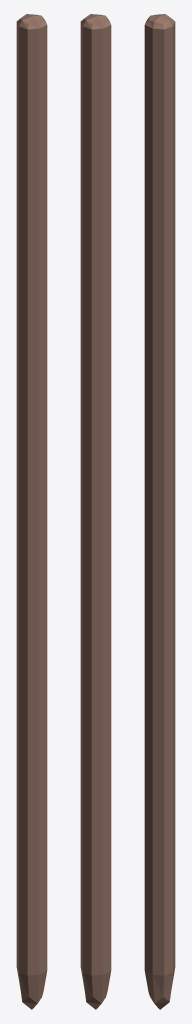
The model's file is high-platform2.dae.
The picture shows the model from 3 angles, left to right: view 1: azimuth 30°, elevation 25°; view 2: azimuth 210°, elevation 25°; view 3: azimuth 330°, elevation 25°; orthographic projection.
Visible parts, largest first — view 1: Cube; view 2: Cube; view 3: Cube.
Part boxes in pixels (bbox=[...]): Cube: bbox=[16, 14, 47, 1009]; Cube: bbox=[80, 14, 111, 1009]; Cube: bbox=[144, 14, 175, 1009].
Bounding box in the file's own units: 2 × 1.96 × 73.11.
